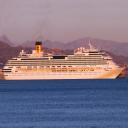cruises: (3, 40, 127, 81)
